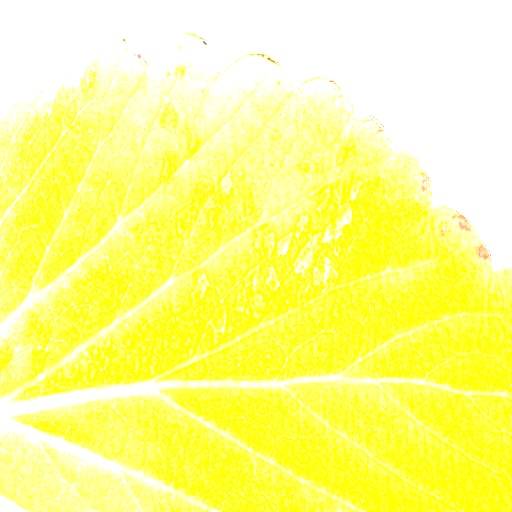Angular Leafspot: (0, 93, 411, 408)
